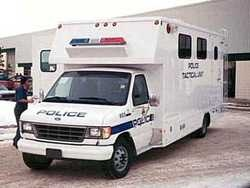Police Van: (7, 14, 231, 166)
